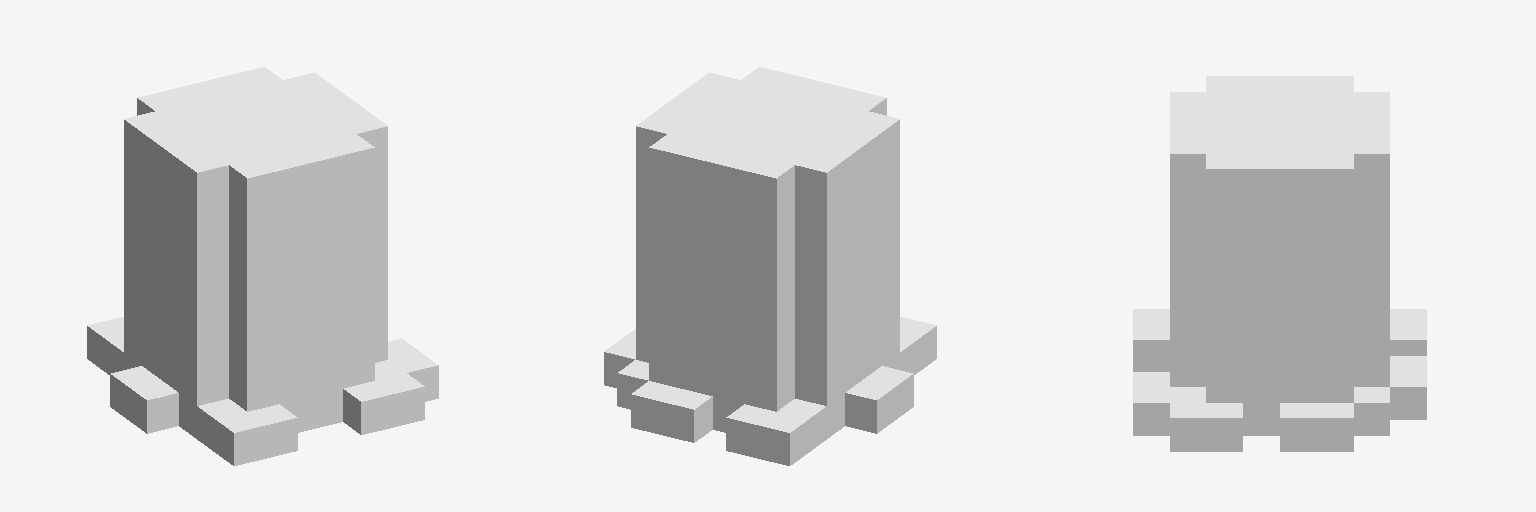
File: troncodemadeira.obj
The picture shows the model from 3 angles: view 1: azimuth 30°, elevation 25°; view 2: azimuth 150°, elevation 25°; view 3: azimuth 270°, elevation 25°; orthographic projection.
Parts seen in each view (by area): view 1: object 1; view 2: object 1; view 3: object 1.
Boxes of the visible parts, <box> form: object 1: <box>87,67,438,465</box>; object 1: <box>604,67,936,465</box>; object 1: <box>1133,76,1426,451</box>.
Size of the model in its own units: 0.8 by 0.8 by 0.8.